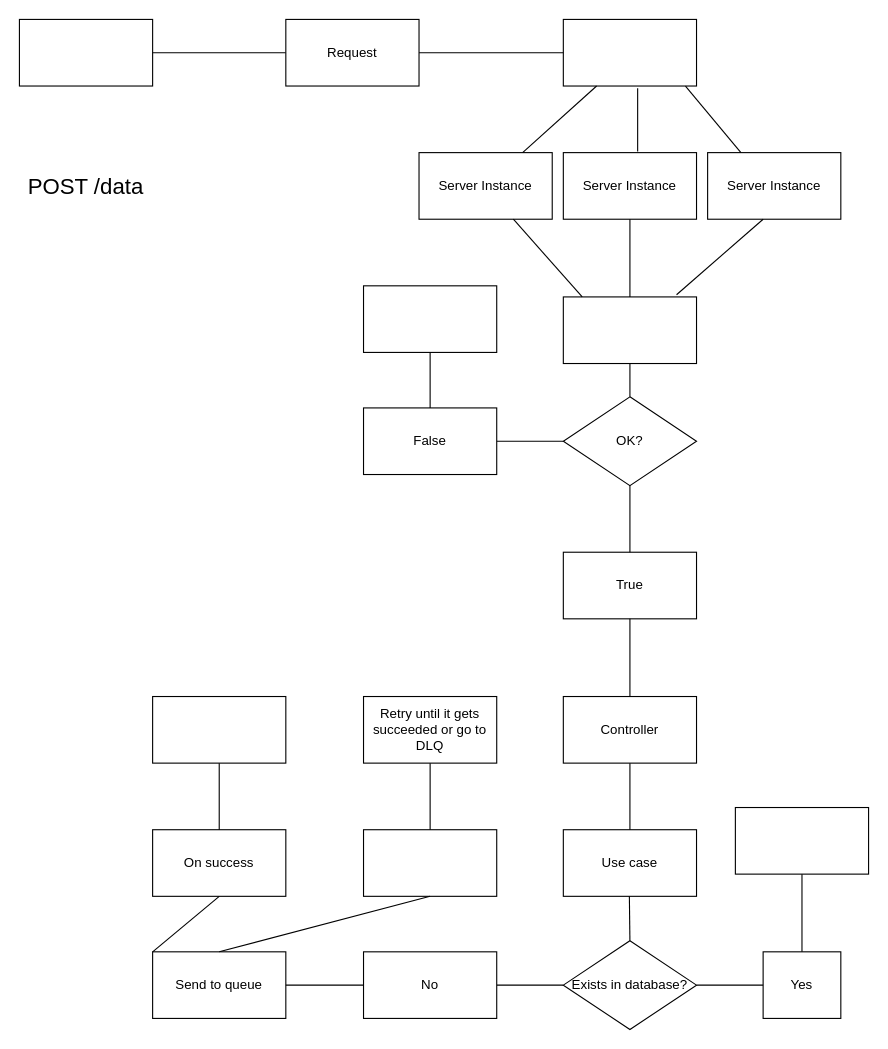
This 888x1049 diagram has some shape labels left out. Each missing label, with the centre of its shape:
"Client" goes at point 85,52.
"Load Balancer" goes at point 629,52.
"On fail" goes at point 429,862.
"Persist in the database and cache" goes at point 219,729.
"Throw already exists exception" goes at point 801,840.
"Throw Validation Exception" goes at point 429,318.
"Validator" goes at point 629,330.
